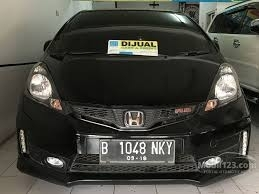plate: (101, 140, 176, 162)
